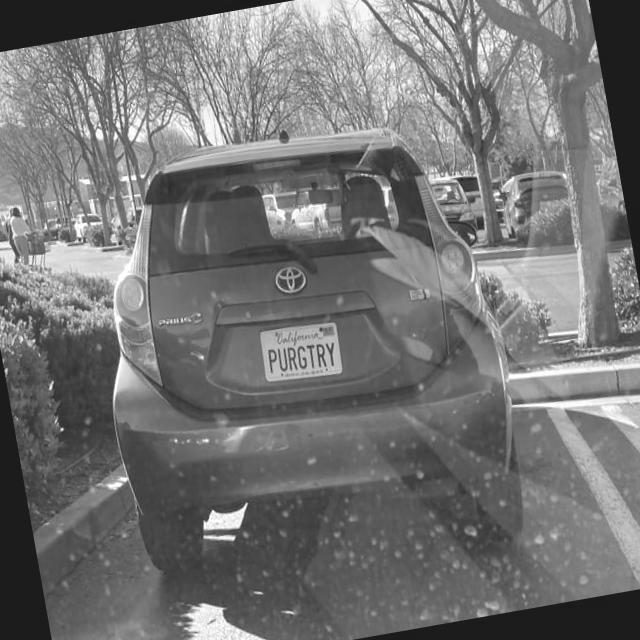LicensePlate: (258, 320, 344, 382)
